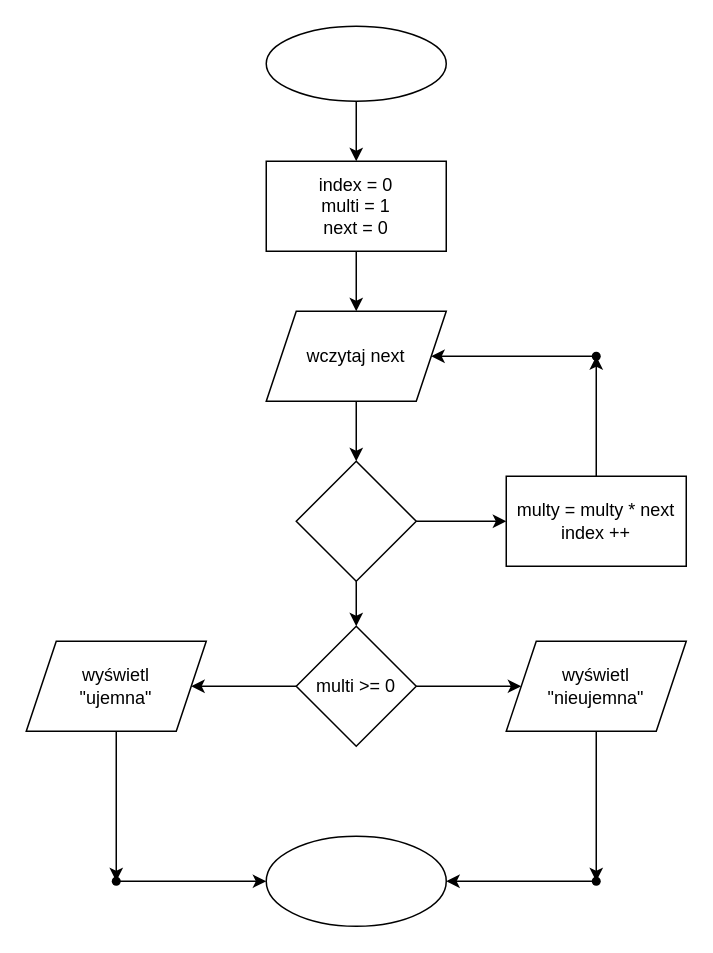
The diagram is 713 pixels wide and 953 high, and some of its shapes have lost their labels. Each missing label, with the box of its shape:
index < 5: (295, 460, 416, 581)
koniec: (265, 835, 446, 926)
start: (265, 25, 446, 101)
